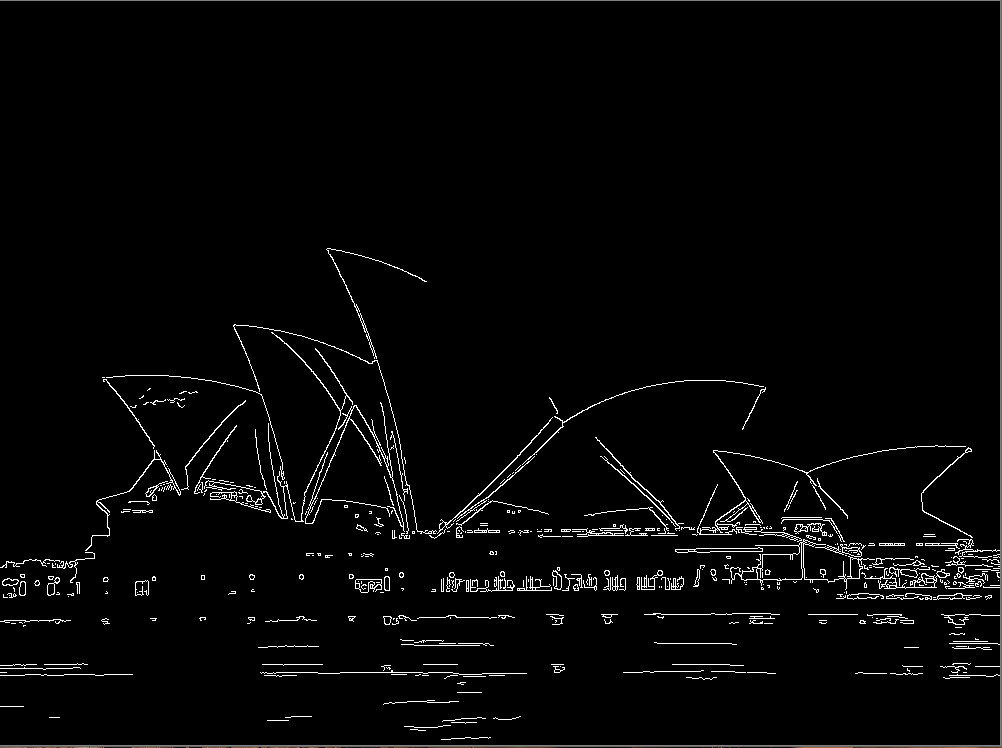opera house: (80, 216, 973, 559)
